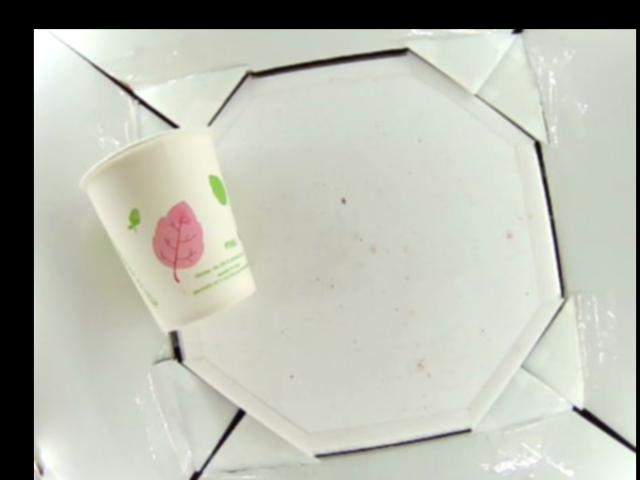Cup: (77, 126, 255, 333)
